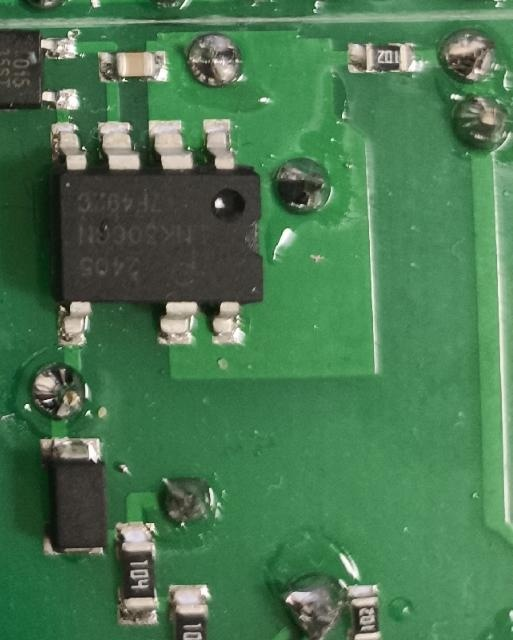chip-capacitor: (98, 51, 169, 81)
chip-resistor: (113, 519, 161, 628), (168, 580, 216, 640), (346, 38, 418, 76), (346, 579, 384, 640)
diode: (39, 432, 108, 559)
ic: (49, 116, 266, 347)
